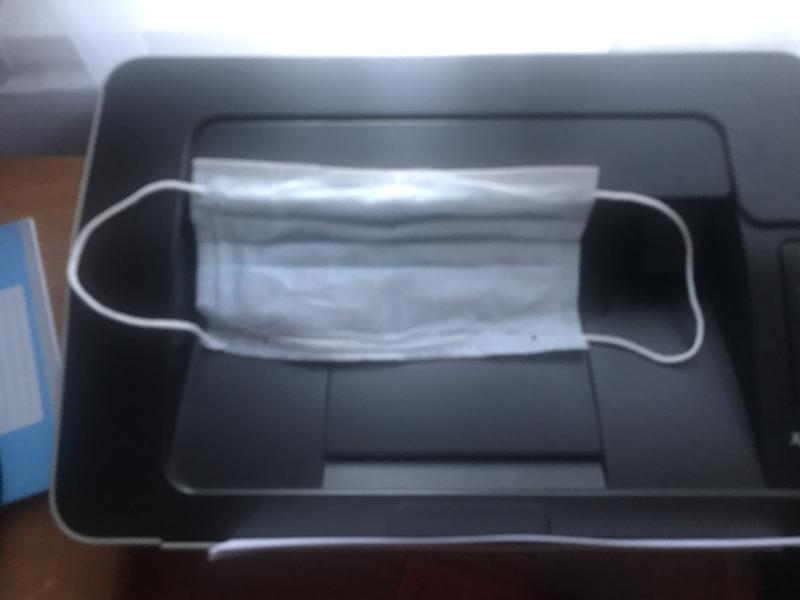medical_mask: (65, 158, 704, 367)
